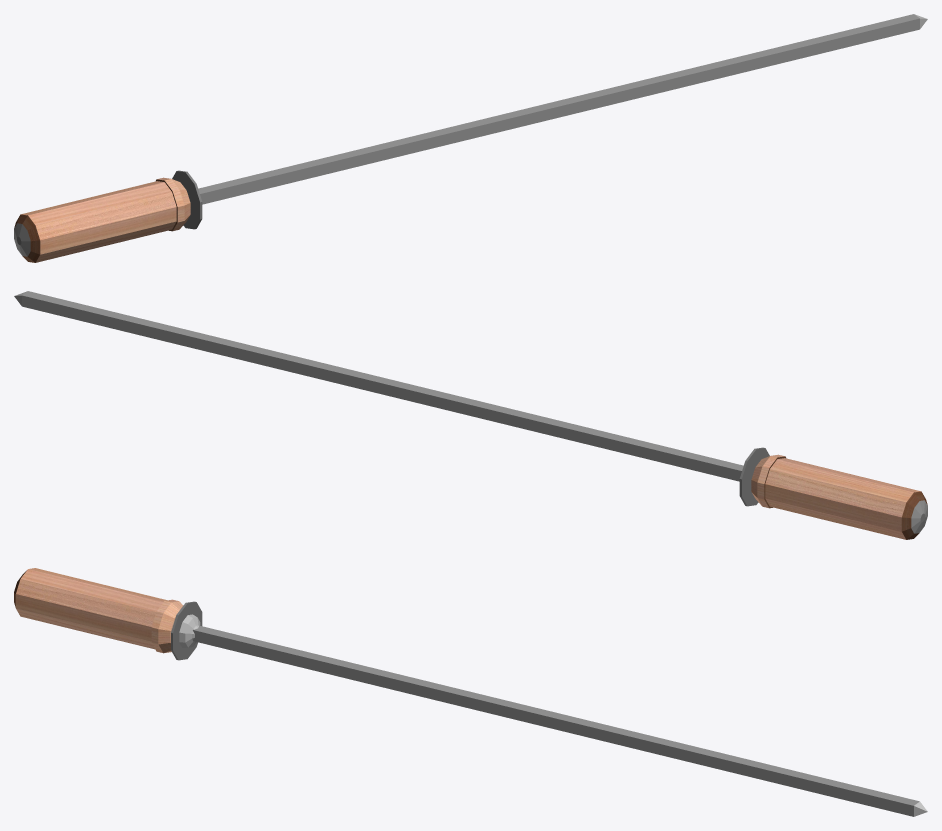
The model's file is WorldItem_KebabSkewer.fbx.
The picture shows the model from 3 angles, top to bottom: view 1: azimuth 30°, elevation 25°; view 2: azimuth 150°, elevation 25°; view 3: azimuth 330°, elevation 25°; orthographic projection.
Visible parts, largest first — view 1: ZomboidKebabSkewer; view 2: ZomboidKebabSkewer; view 3: ZomboidKebabSkewer.
Boxes of the visible parts, bbox=[...] form: ZomboidKebabSkewer: bbox=[14, 14, 927, 262]; ZomboidKebabSkewer: bbox=[14, 291, 927, 539]; ZomboidKebabSkewer: bbox=[14, 568, 927, 816].
Size of the model in its own units: 0.6242 by 0.0366 by 0.0348.
